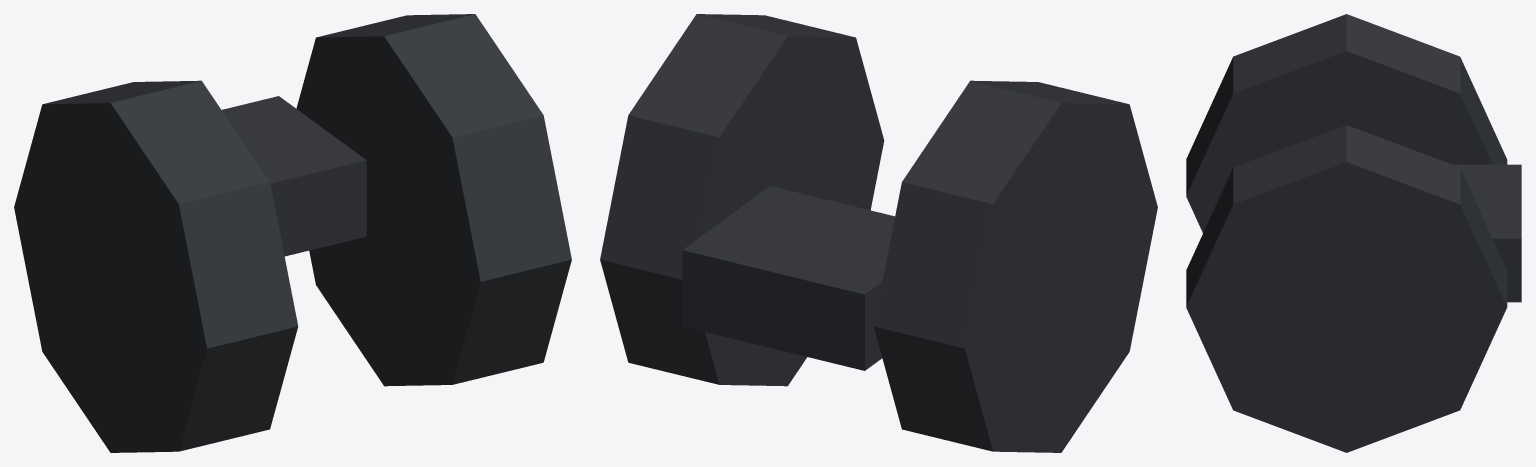
File: G36_CMag100.fbx
3 views of the same model, side by side, from view 1: azimuth 30°, elevation 25°; view 2: azimuth 150°, elevation 25°; view 3: azimuth 270°, elevation 25° (orthographic). The views are drawn at different scales.
Parts seen in each view (by area): view 1: prims; view 2: prims; view 3: prims.
Part boxes in pixels (x1,y1,x2,y2): prims: (14, 14, 571, 452); prims: (600, 14, 1157, 452); prims: (1186, 14, 1521, 452).
Bounding box in the file's own units: 0.072 × 0.066 × 0.069.
